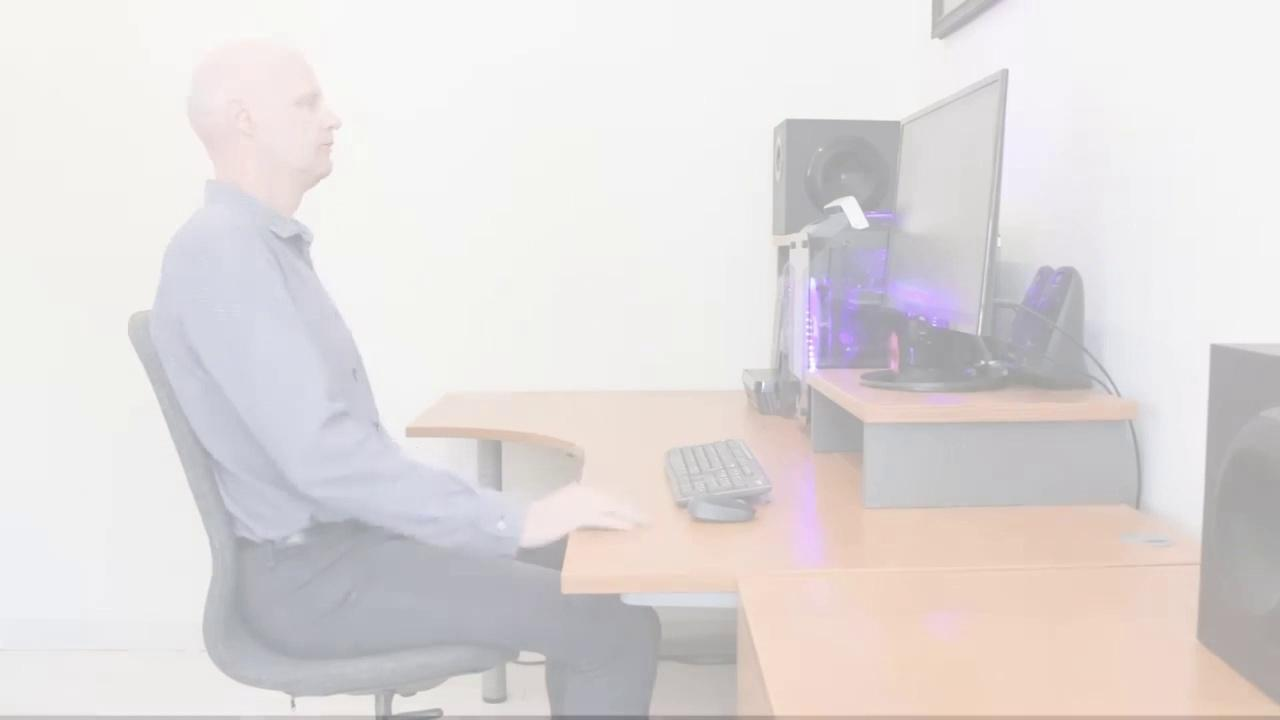GoodPosture: (149, 40, 660, 719)
